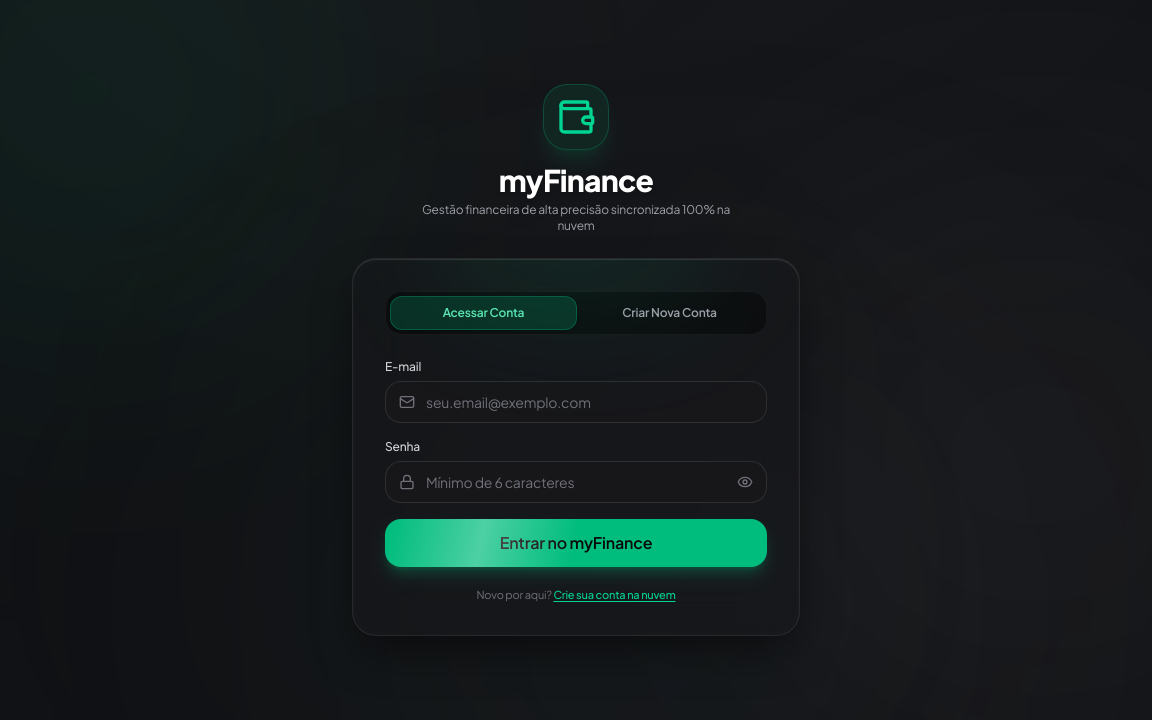
Test: <AuthPage /> (Tela de Autenticação / Auth Gate) › deve alternar para a aba de criar conta e exibir os campos de nome e confirmação
Click the button "Criar Nova Conta" at x=670, y=313, box [577,296,762,330]
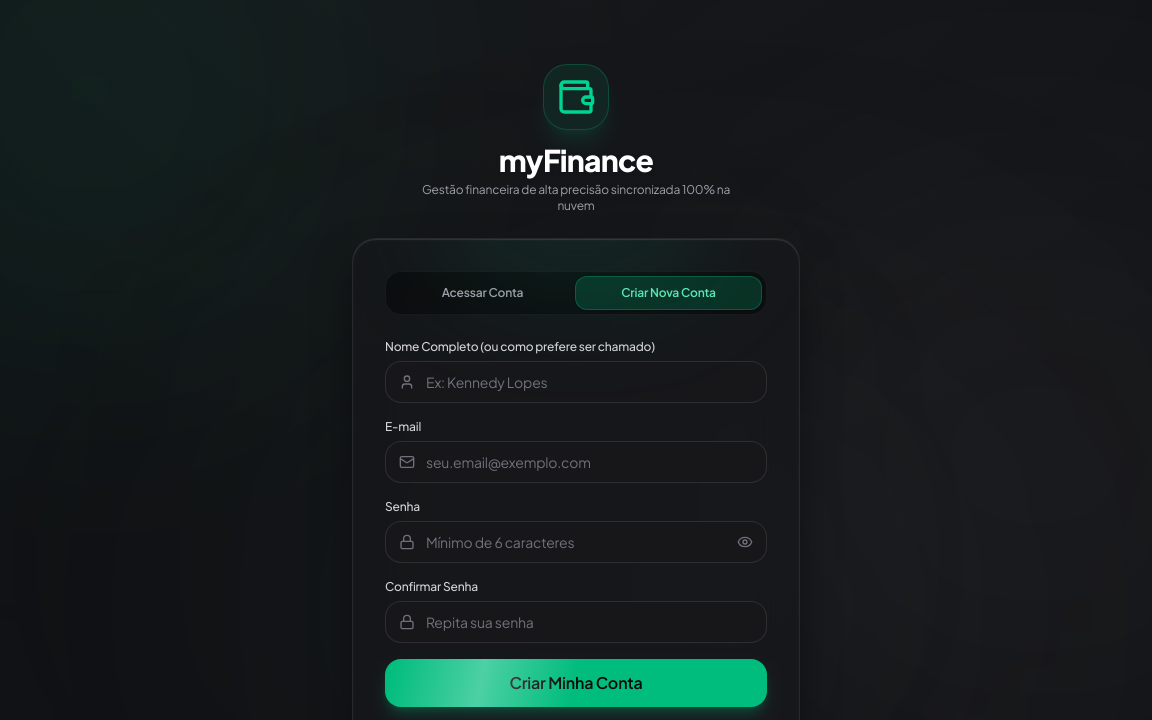
Expected: the field labelled "Nome Completo (ou como prefere ser chamado)" is shown, [385,361,767,403]
Expected: the password field labelled "Confirmar Senha" is shown, [385,601,767,643]
Expected: the button "Criar Minha Conta" is shown, [385,659,767,707]
